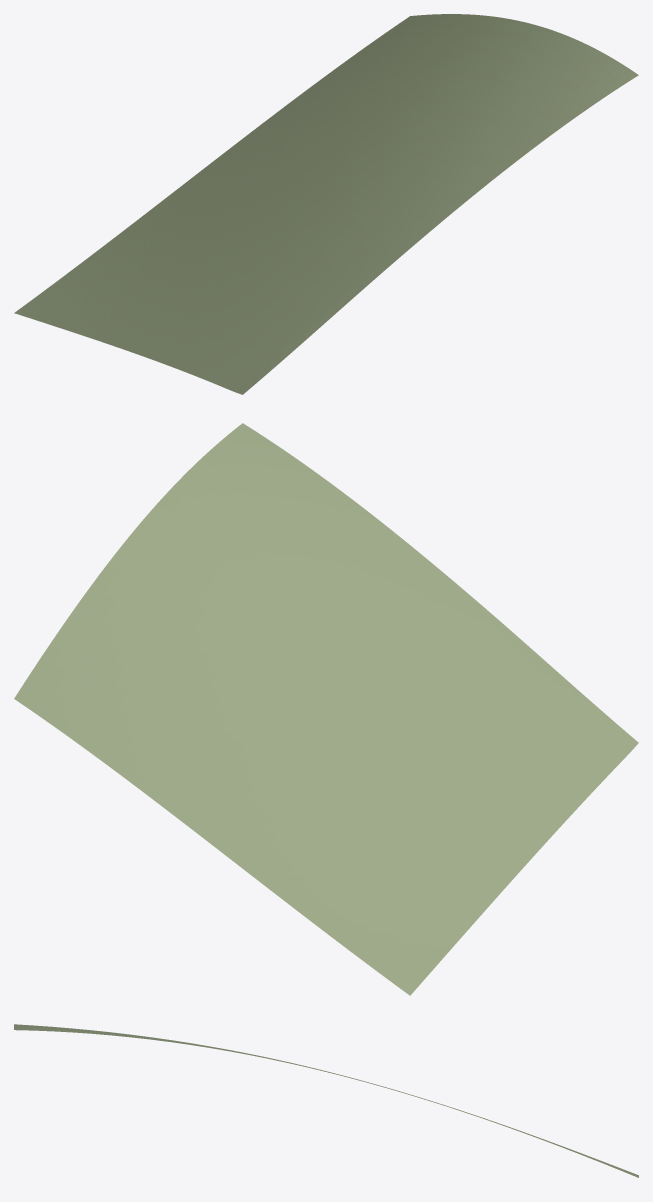
The model's file is alpine-8-1.glb.
The picture shows the model from 3 angles, top to bottom: view 1: azimuth 30°, elevation 25°; view 2: azimuth 150°, elevation 25°; view 3: azimuth 270°, elevation 25°; orthographic projection. The views are drawn at different scales.
Visible parts, largest first — view 1: alpine-8-1; view 2: alpine-8-1; view 3: alpine-8-1.
Boxes of the visible parts, bbox=[...] form: alpine-8-1: bbox=[14, 14, 638, 394]; alpine-8-1: bbox=[14, 423, 638, 995]; alpine-8-1: bbox=[14, 1024, 638, 1177].
Bounding box in the file's own units: 256 × 191 × 256.
